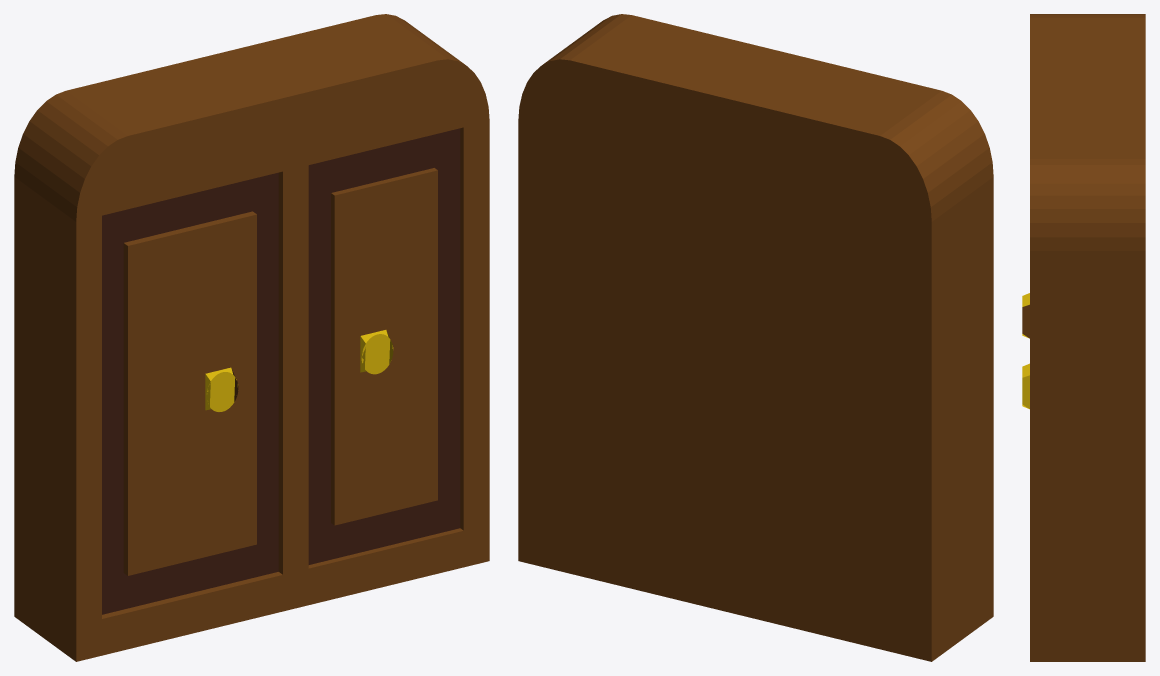
Rendered from ropero.gltf.
3 views of the same model, side by side, from view 1: azimuth 30°, elevation 25°; view 2: azimuth 150°, elevation 25°; view 3: azimuth 270°, elevation 25° (orthographic). The views are drawn at different scales.
Parts seen in each view (by area): view 1: Cube; view 2: Cube; view 3: Cube.
Boxes of the visible parts, left/top/right/bottom form: Cube: left=14, top=14, right=489, bottom=661; Cube: left=518, top=14, right=993, bottom=661; Cube: left=1022, top=14, right=1145, bottom=661.
Size of the model in its own units: 7.71 by 9.15 by 2.13.
